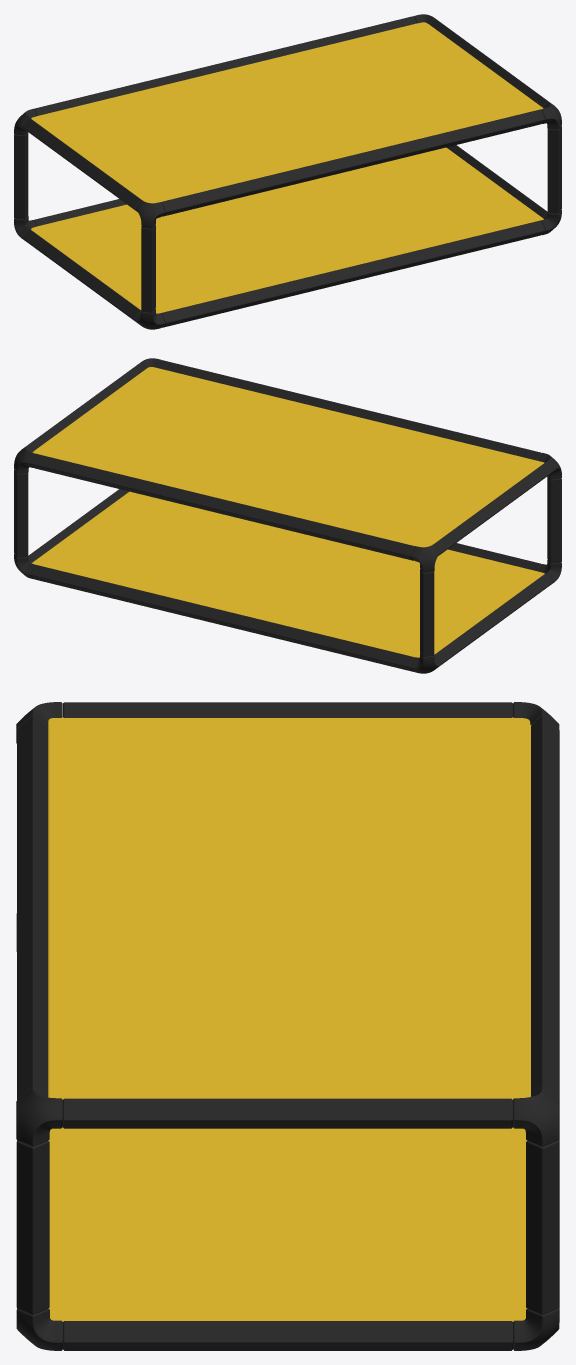
The picture shows the model from 3 angles, top to bottom: view 1: azimuth 30°, elevation 25°; view 2: azimuth 150°, elevation 25°; view 3: azimuth 270°, elevation 25°; orthographic projection. The views are drawn at different scales.
Visible parts, largest first — view 1: 729x374x154; view 2: 729x374x154; view 3: 729x374x154.
Part boxes in pixels (x1=…): 729x374x154: x1=14, y1=14, x2=561, y2=329; 729x374x154: x1=14, y1=358, x2=561, y2=673; 729x374x154: x1=16, y1=702, x2=559, y2=1350.
Size of the model in its own units: 0.8067 by 0.2316 by 0.4513.
